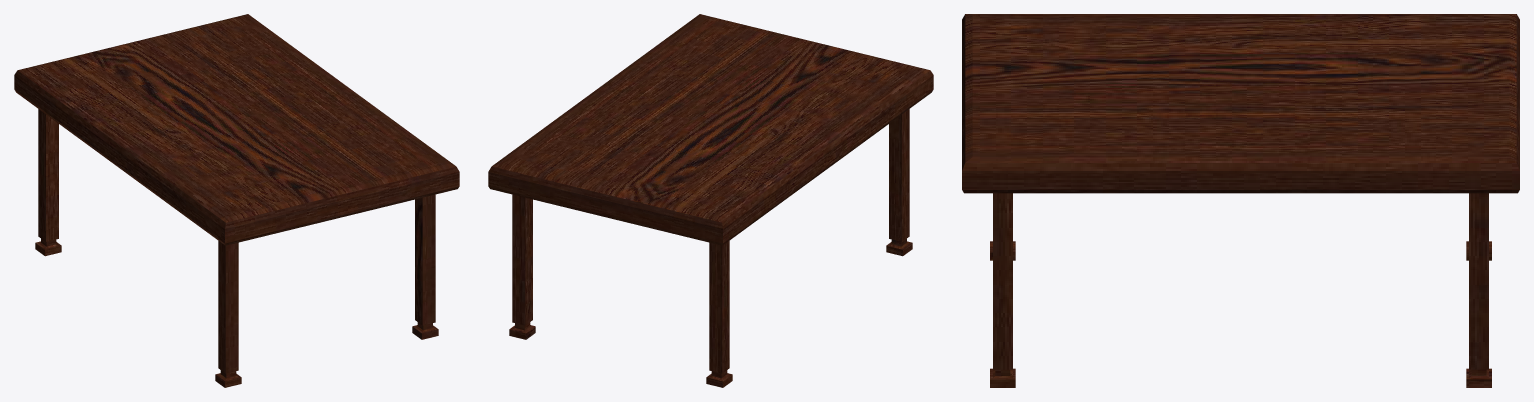
File: mytable.glb
The picture shows the model from 3 angles, left to right: view 1: azimuth 30°, elevation 25°; view 2: azimuth 150°, elevation 25°; view 3: azimuth 270°, elevation 25°; orthographic projection. The views are drawn at different scales.
Parts seen in each view (by area): view 1: WoodTable_col; view 2: WoodTable_col; view 3: WoodTable_col.
Boxes of the visible parts, left/top/right/bottom form: WoodTable_col: left=14, top=14, right=459, bottom=387; WoodTable_col: left=488, top=14, right=933, bottom=387; WoodTable_col: left=962, top=14, right=1519, bottom=387.
Size of the model in its own units: 4.56 by 3.28 by 7.1.
1 material, 1 textured.
